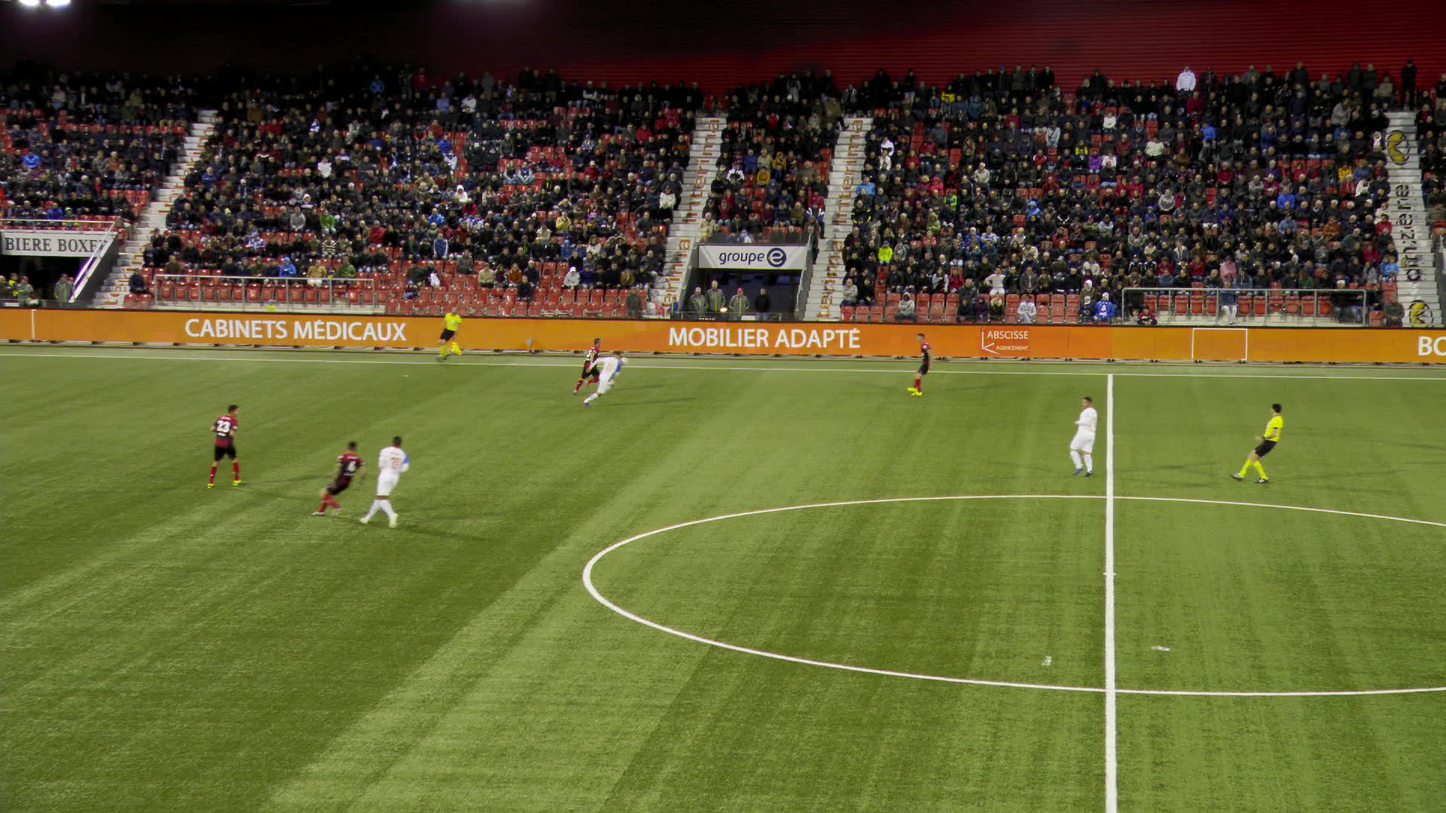ball: (620, 356, 628, 364)
player: (358, 435, 408, 528), (311, 440, 366, 515), (207, 404, 240, 489), (1069, 395, 1097, 477), (581, 350, 621, 406), (905, 332, 932, 395), (573, 337, 600, 395)
referee: (1229, 403, 1283, 482), (432, 309, 465, 363)
